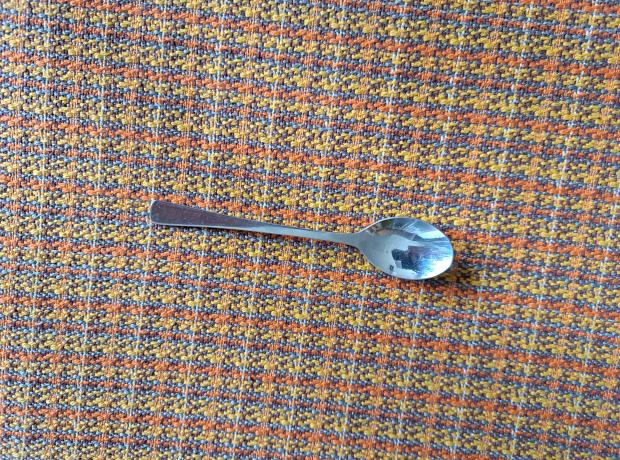metal: (148, 200, 455, 282)
